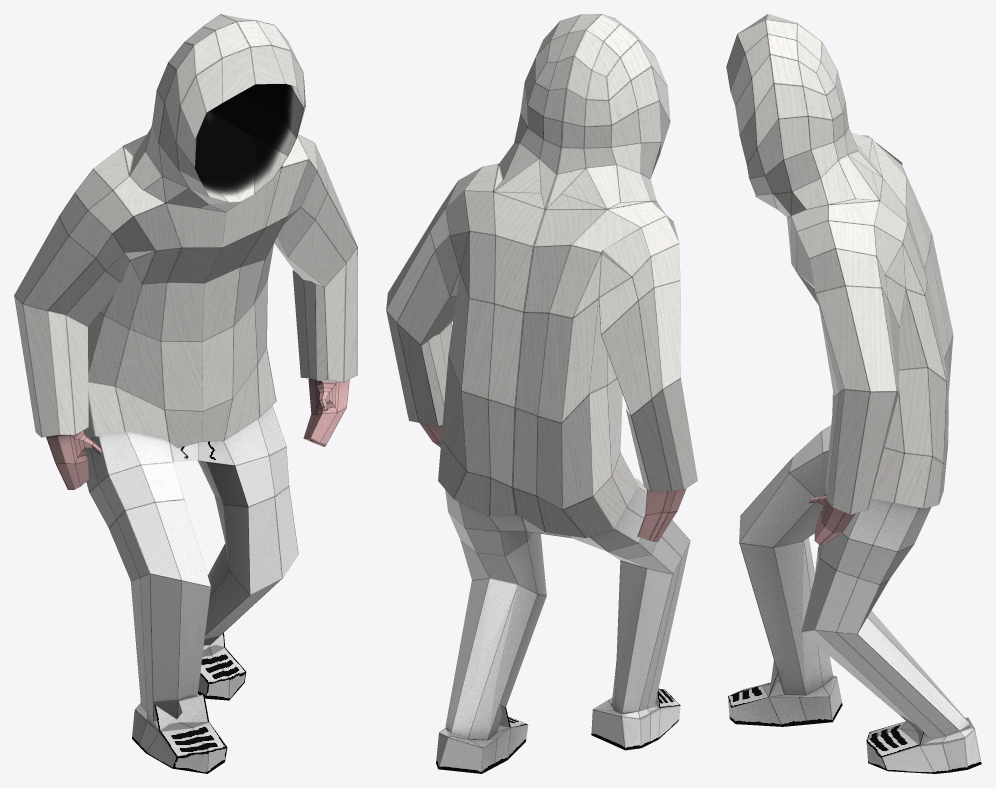
Rendered from Shadowmanv_000042.obj.
The picture shows the model from 3 angles, left to right: view 1: azimuth 30°, elevation 25°; view 2: azimuth 150°, elevation 25°; view 3: azimuth 270°, elevation 25°; orthographic projection. The views are drawn at different scales.
Parts seen in each view (by area): view 1: Cube.000; view 2: Cube.000; view 3: Cube.000.
Boxes of the visible parts, bbox=[...] form: Cube.000: bbox=[14, 14, 357, 773]; Cube.000: bbox=[386, 14, 697, 773]; Cube.000: bbox=[726, 14, 981, 773].
Size of the model in its own units: 4.94 by 10.84 by 3.47.
